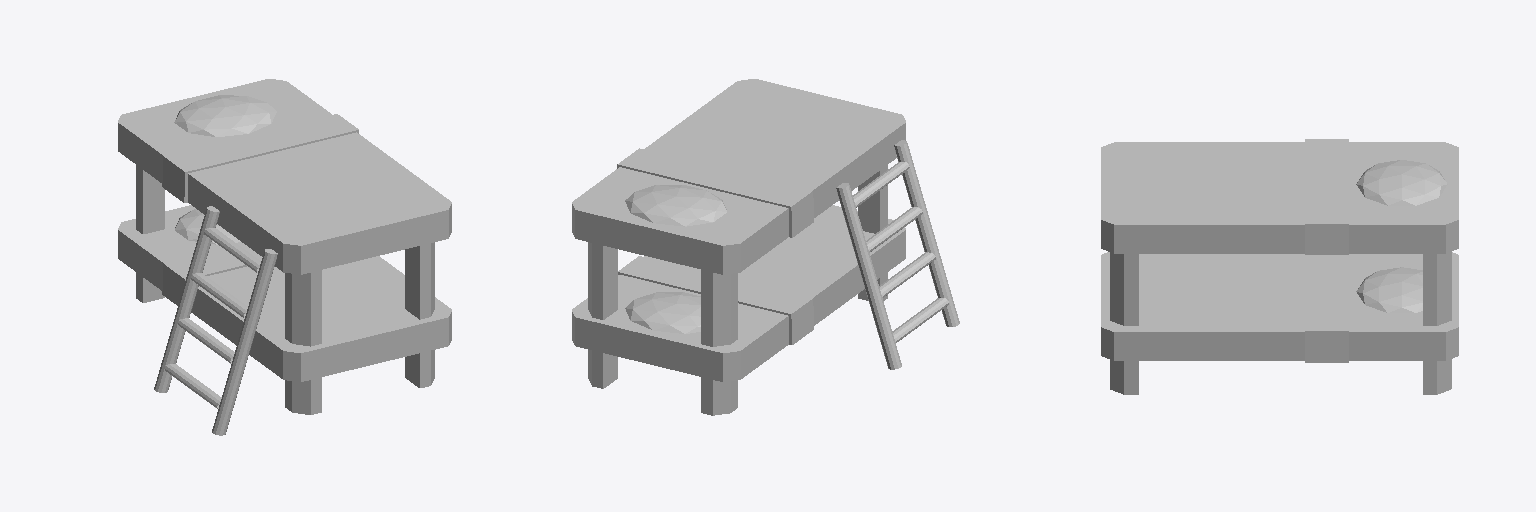
File: Bunk_Double_Orange.obj
The picture shows the model from 3 angles: view 1: azimuth 30°, elevation 25°; view 2: azimuth 150°, elevation 25°; view 3: azimuth 270°, elevation 25°; orthographic projection.
Parts seen in each view (by area): view 1: Bunk_Double_Orange; view 2: Bunk_Double_Orange; view 3: Bunk_Double_Orange.
Boxes of the visible parts, <box> form: Bunk_Double_Orange: <box>118,79,451,435</box>; Bunk_Double_Orange: <box>572,79,959,415</box>; Bunk_Double_Orange: <box>1101,139,1458,394</box>.
Bounding box in the file's own units: 2 × 1.58 × 2.65.